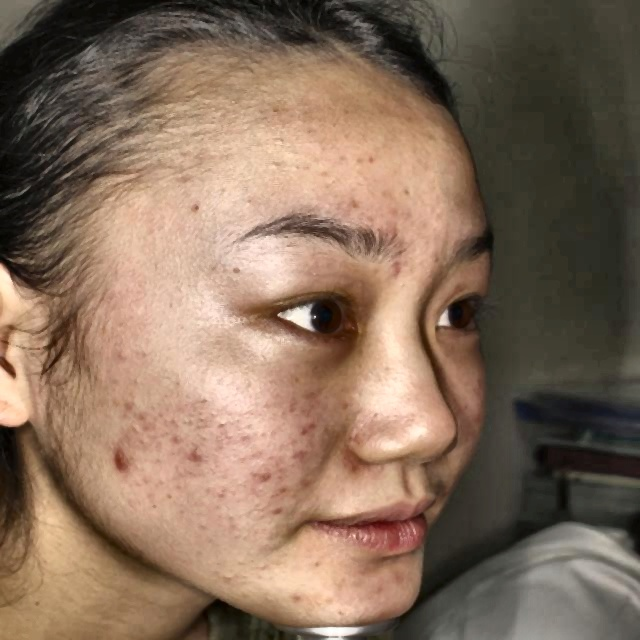pustule: (109, 449, 139, 492), (290, 441, 319, 466), (387, 258, 410, 285), (246, 461, 268, 488), (289, 587, 309, 613), (294, 471, 316, 493), (183, 441, 199, 471)
